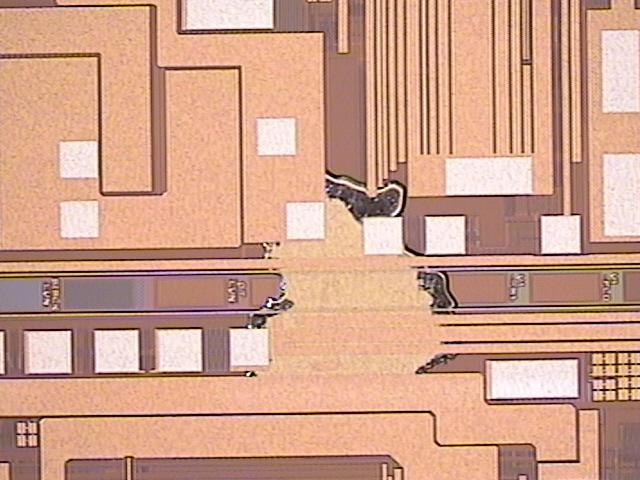BLOCK ETCH: (243, 170, 467, 376)
